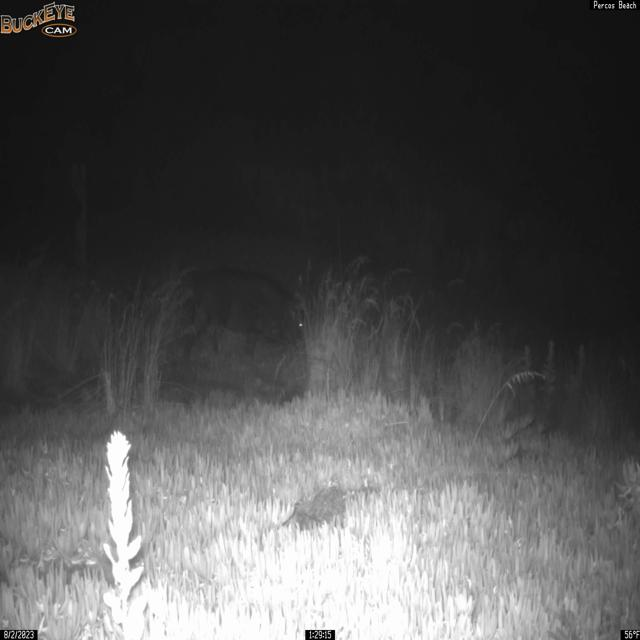pig: (181, 267, 307, 364)
